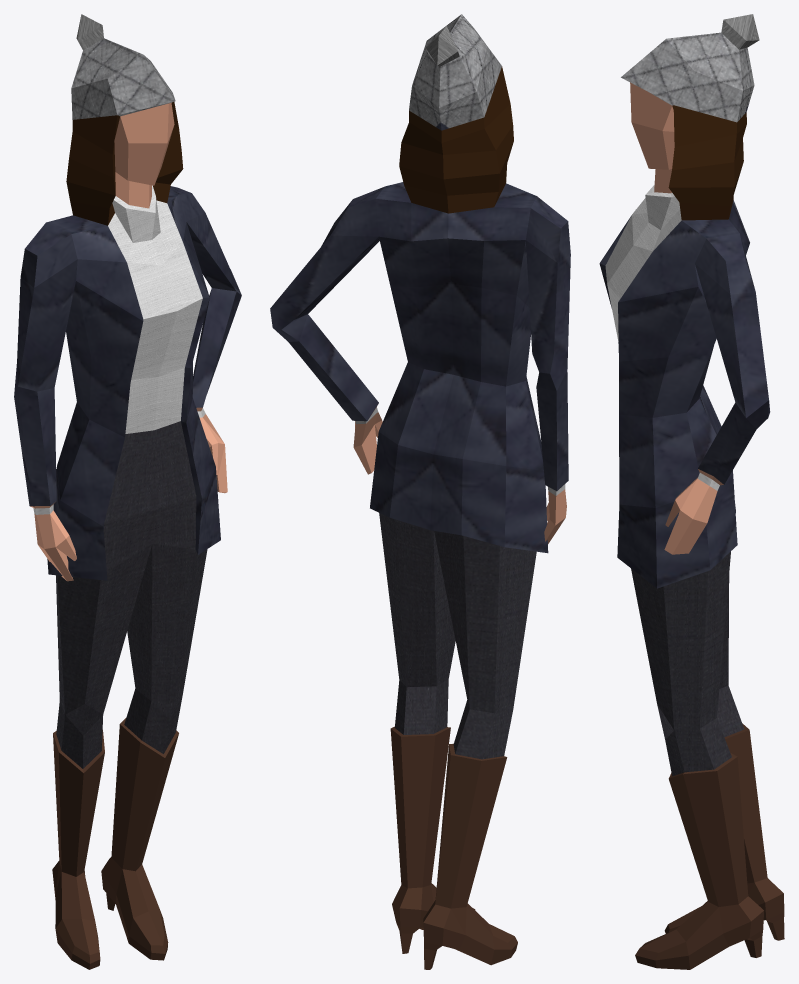
The model's file is AutumnWomanB.010.glb.
3 views of the same model, side by side, from view 1: azimuth 30°, elevation 25°; view 2: azimuth 150°, elevation 25°; view 3: azimuth 270°, elevation 25° (orthographic). The views are drawn at different scales.
Visible parts, largest first — view 1: AutumnWomanB.010; view 2: AutumnWomanB.010; view 3: AutumnWomanB.010.
Boxes of the visible parts, x1,y1,x2,y2 form: AutumnWomanB.010: (14,14,241,969); AutumnWomanB.010: (270,14,570,969); AutumnWomanB.010: (599,14,784,969).
Size of the model in its own units: 0.5067 by 1.76 by 0.3141.
1 material, 1 textured.
